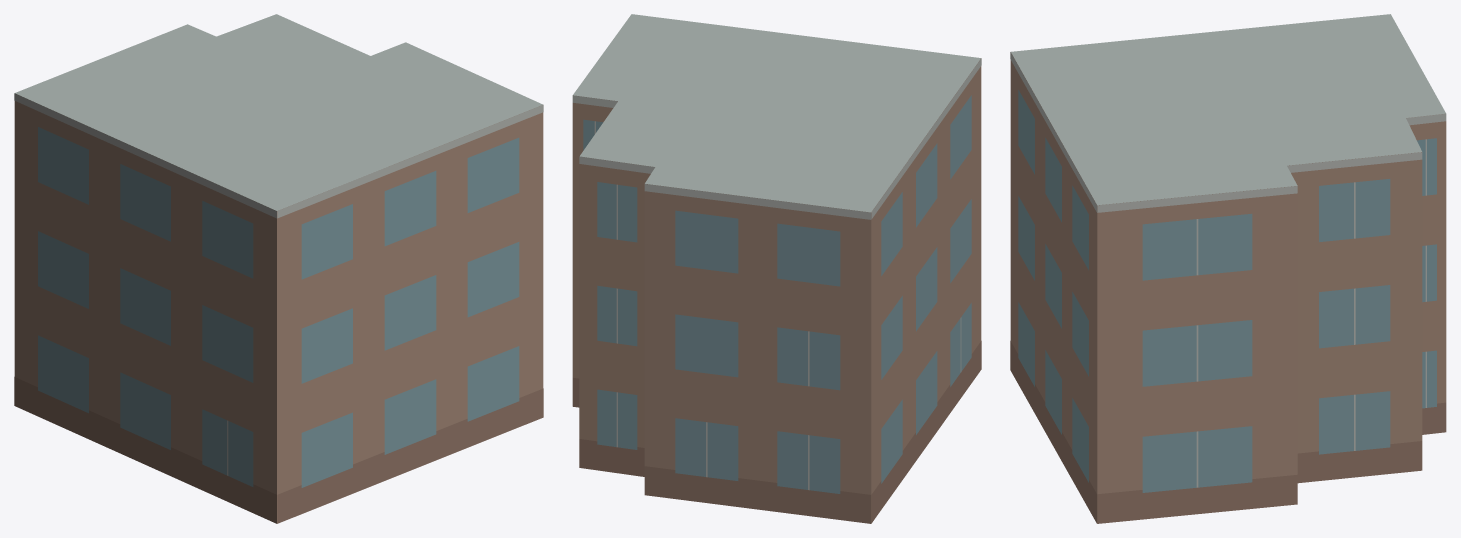
Rendered from survey-upis-32739350.glb.
The picture shows the model from 3 angles, left to right: view 1: azimuth 30°, elevation 25°; view 2: azimuth 150°, elevation 25°; view 3: azimuth 270°, elevation 25°; orthographic projection. The views are drawn at different scales.
Visible parts, largest first — view 1: survey-upis-32739350.tmp; view 2: survey-upis-32739350.tmp; view 3: survey-upis-32739350.tmp.
Part boxes in pixels (x1,y1,x2,y2): survey-upis-32739350.tmp: (14,14,543,523); survey-upis-32739350.tmp: (572,14,981,523); survey-upis-32739350.tmp: (1010,14,1446,523).
Size of the model in its own units: 13.14 by 10.2 by 12.65.
